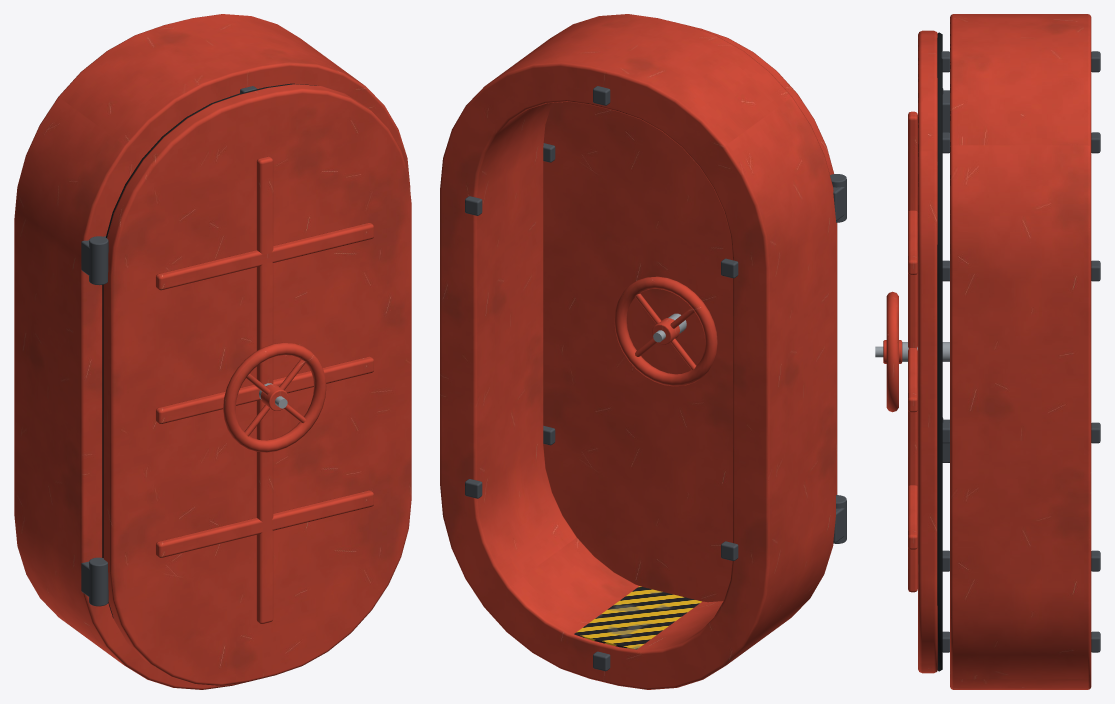
File: EngineRoomDoor.glb
The picture shows the model from 3 angles, left to right: view 1: azimuth 30°, elevation 25°; view 2: azimuth 150°, elevation 25°; view 3: azimuth 270°, elevation 25°; orthographic projection. The views are drawn at different scales.
Visible parts, largest first — view 1: EngineRoomDoor_Leaf, EngineRoomDoor_Body, EngineRoomDoor_WheelFront; view 2: EngineRoomDoor_Body, EngineRoomDoor_Leaf, EngineRoomDoor_WheelBack; view 3: EngineRoomDoor_Body, EngineRoomDoor_Leaf, EngineRoomDoor_WheelFront.
Boxes of the visible parts, x1=… form: EngineRoomDoor_Leaf: x1=102, y1=83, x2=411, y2=685; EngineRoomDoor_Body: x1=14, y1=14, x2=410, y2=689; EngineRoomDoor_WheelFront: x1=223, y1=342, x2=326, y2=452; EngineRoomDoor_Body: x1=440, y1=14, x2=846, y2=689; EngineRoomDoor_Leaf: x1=543, y1=25, x2=837, y2=602; EngineRoomDoor_WheelBack: x1=614, y1=276, x2=717, y2=386; EngineRoomDoor_Body: x1=941, y1=14, x2=1100, y2=689; EngineRoomDoor_Leaf: x1=902, y1=30, x2=949, y2=673; EngineRoomDoor_WheelFront: x1=875, y1=291, x2=902, y2=412.
Size of the model in its own units: 1.16 by 2.06 by 0.6682.
5 materials, 2 textured.
